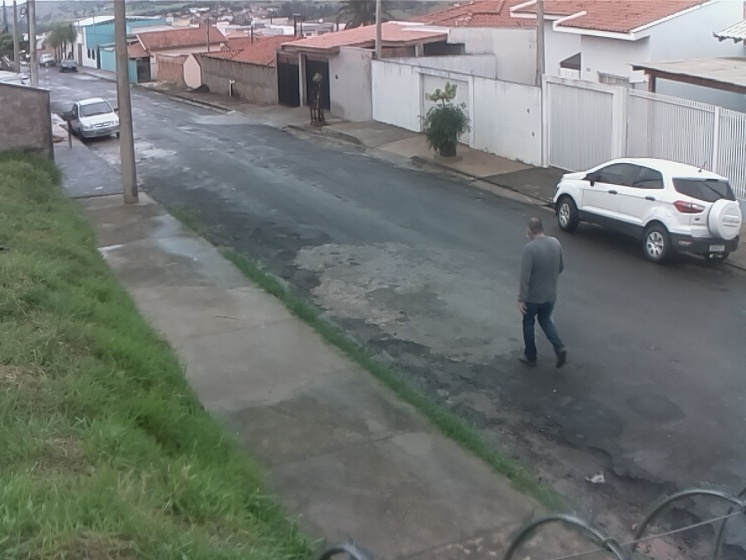person: (513, 214, 571, 373)
